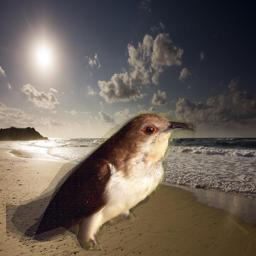Cuckoo: (6, 112, 196, 251)
